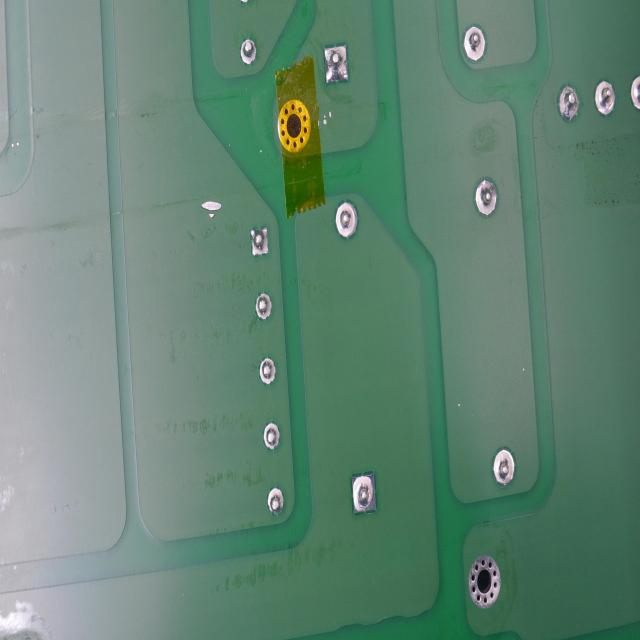spillover: (201, 195, 223, 218), (318, 108, 331, 130)
